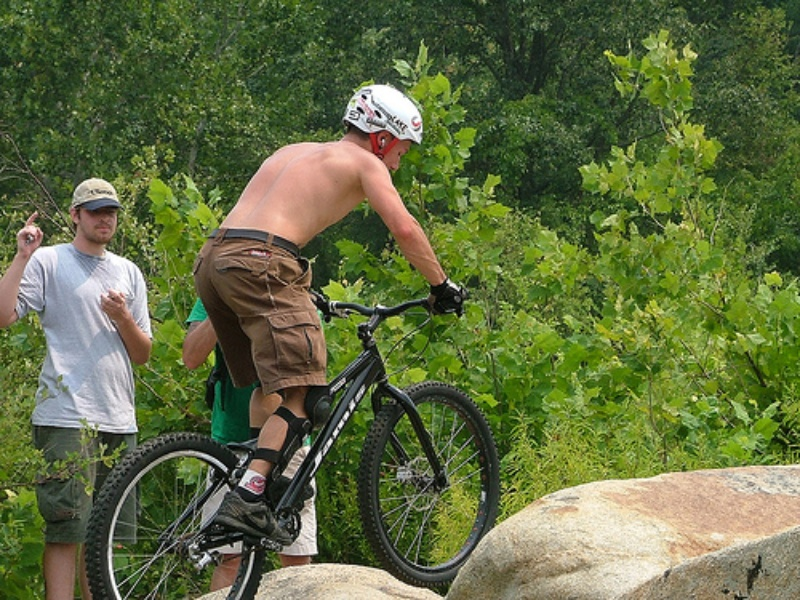person: (193, 84, 466, 545), (1, 177, 153, 600), (183, 297, 319, 594)
